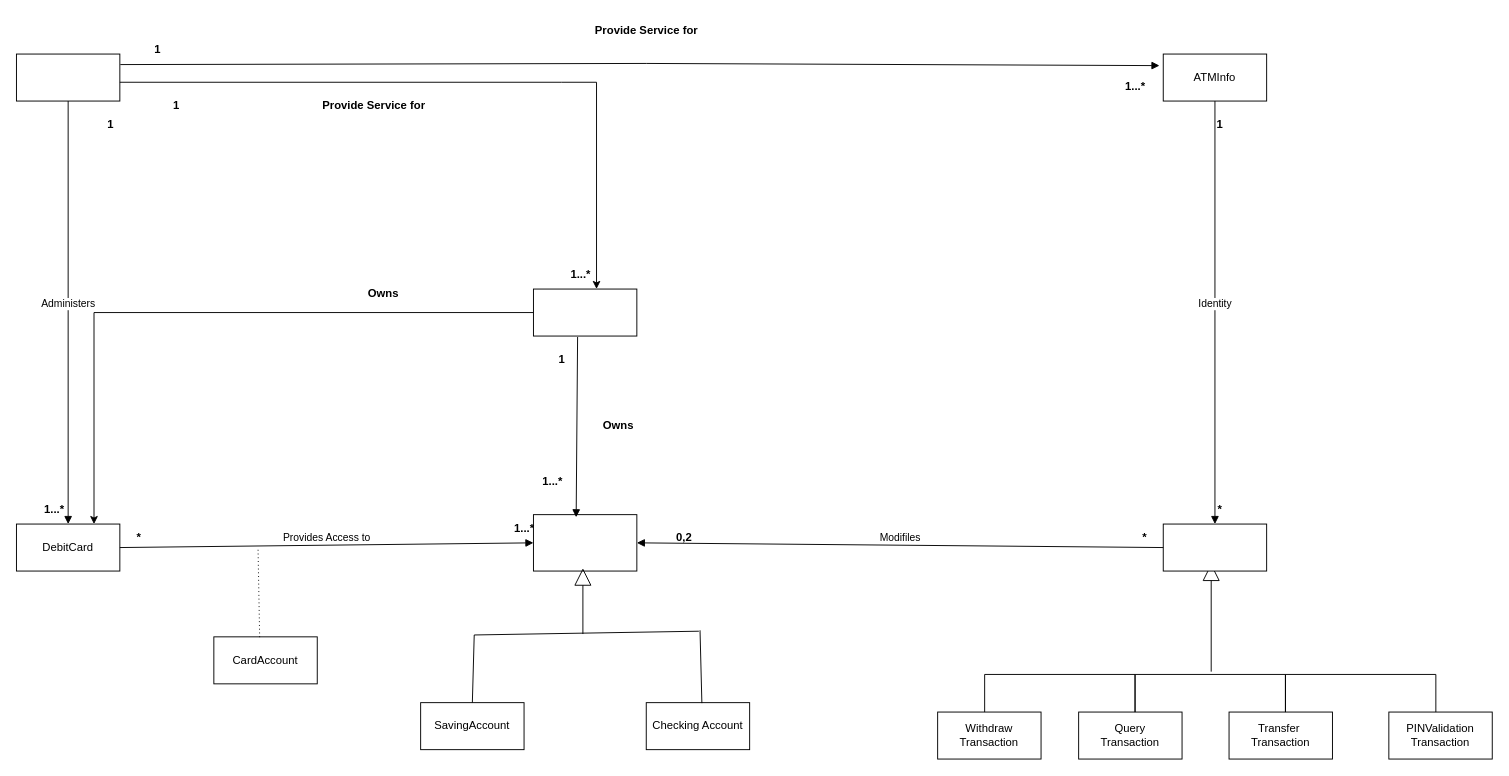
Some shapes in this 1509 by 776 pixel diagram are drawn without their labels. The shapes that lost their labels are listed below. From the top down, each one's centre as x and y in pixels, then its label:
point 68,77: Bank
point 585,312: Customer
point 585,542: Acccount
point 1214,547: Transaction
